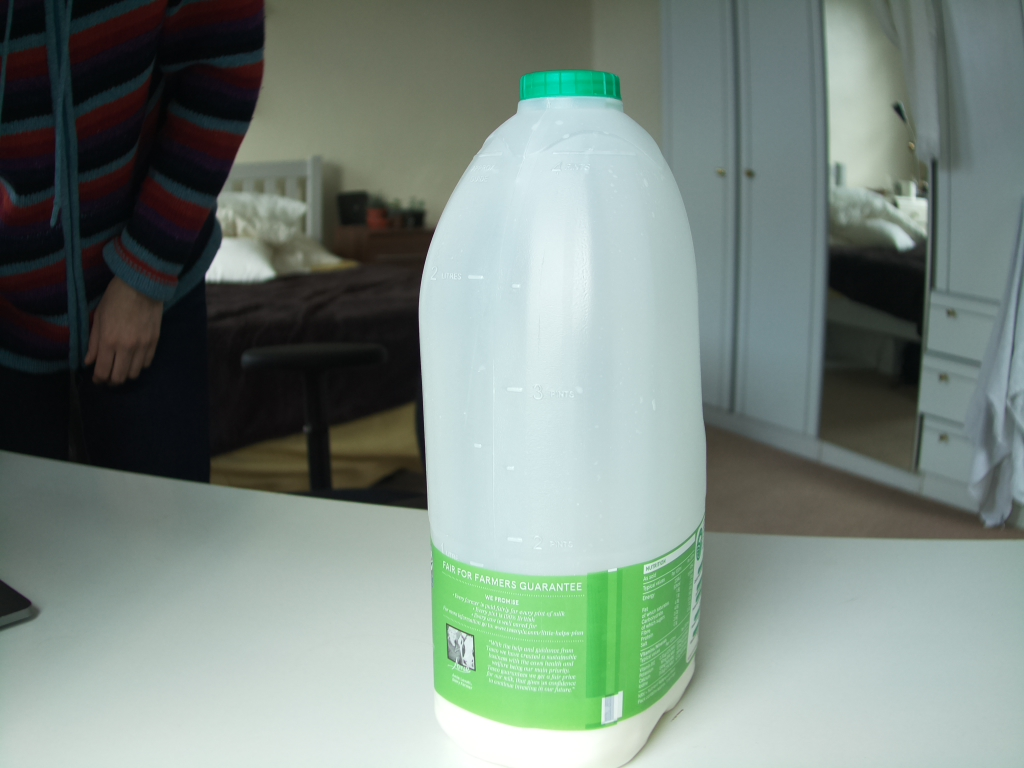milk: (412, 68, 712, 768)
